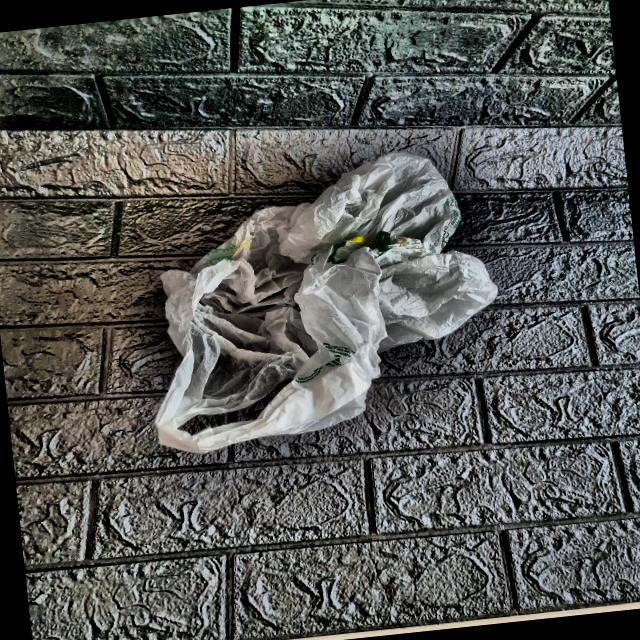plastic bag: (84, 128, 529, 478)
